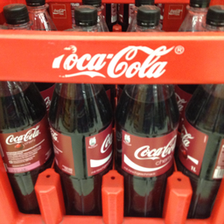soda: (116, 85, 180, 216), (49, 83, 112, 215), (1, 81, 49, 213), (179, 85, 224, 219)
